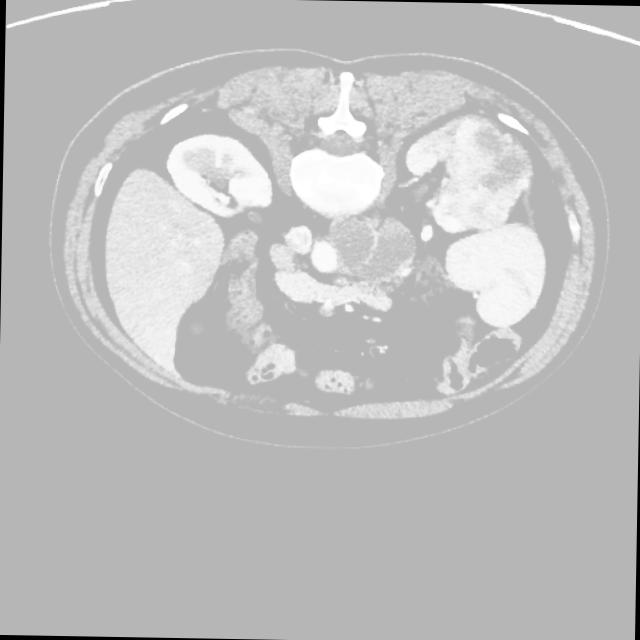TUMOR: (77, 94, 589, 418)
